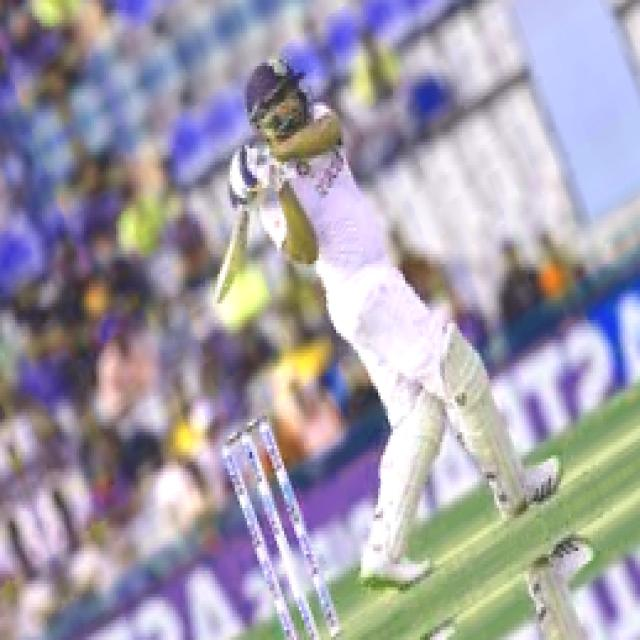toe: (210, 279, 231, 303)
